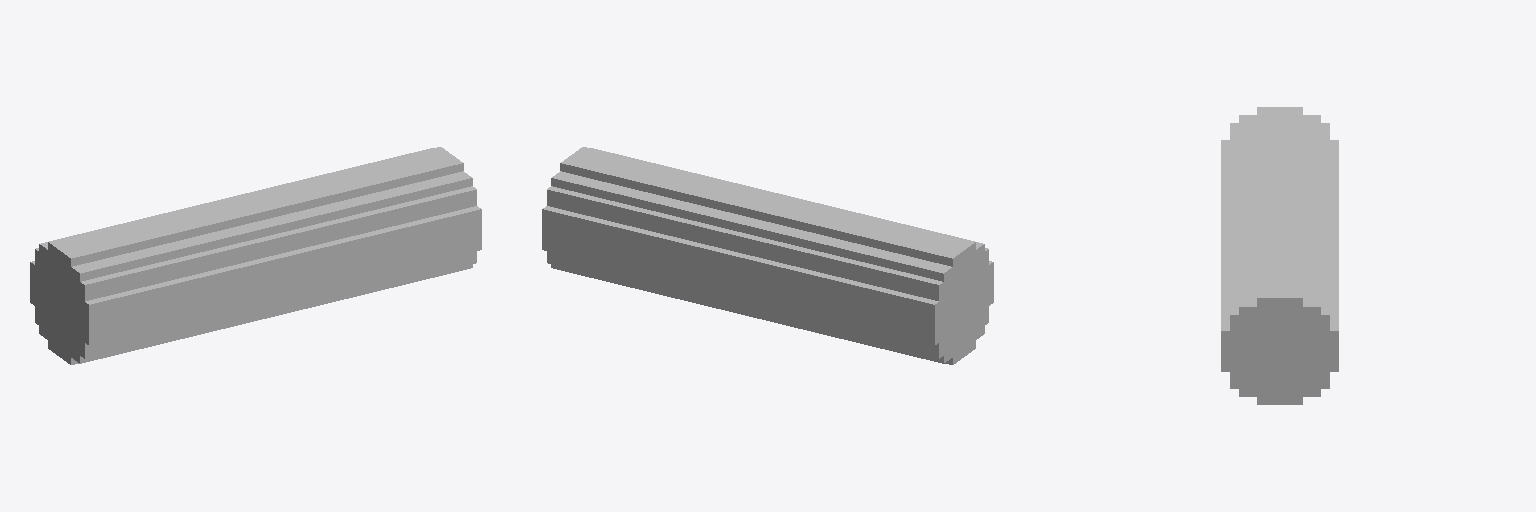
Rendered from palka.obj.
The picture shows the model from 3 angles: view 1: azimuth 30°, elevation 25°; view 2: azimuth 150°, elevation 25°; view 3: azimuth 270°, elevation 25°; orthographic projection.
Parts seen in each view (by area): view 1: Untitled; view 2: Untitled; view 3: Untitled.
Part boxes in pixels (x1,y1,x2,y2): Untitled: (30,147,481,364); Untitled: (542,147,993,364); Untitled: (1221,107,1338,404).
Bounding box in the file's own units: 5 × 1.3 × 1.3.